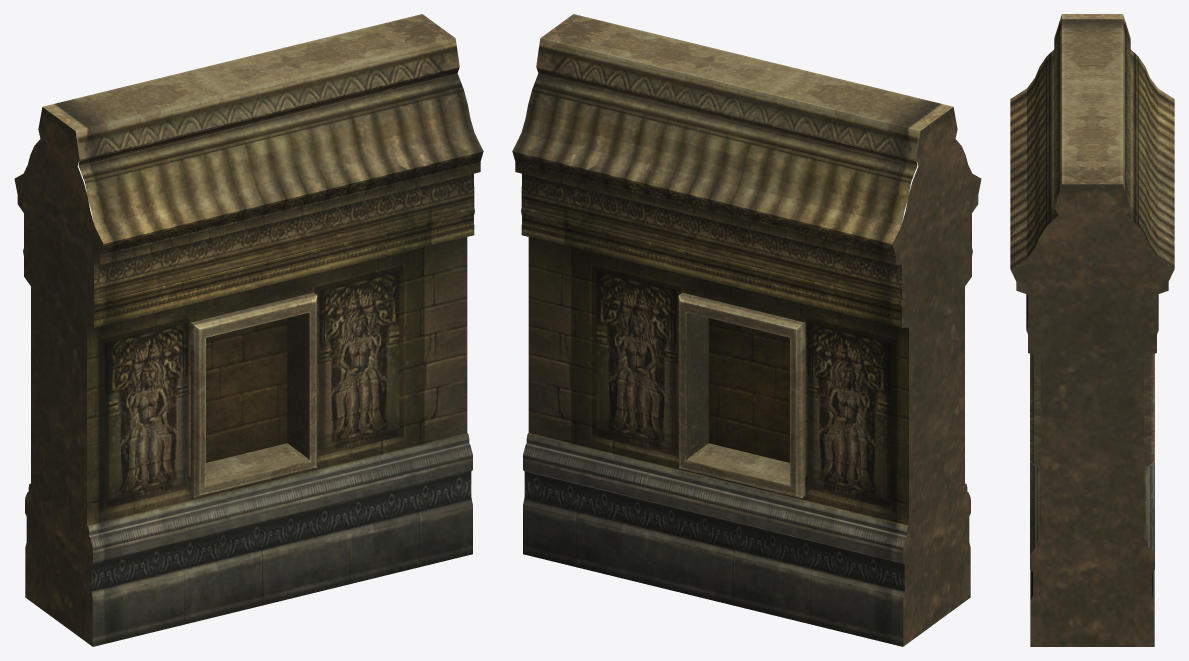
Rendered from thunder_ruins_wall02.glb.
The picture shows the model from 3 angles, left to right: view 1: azimuth 30°, elevation 25°; view 2: azimuth 150°, elevation 25°; view 3: azimuth 270°, elevation 25°; orthographic projection. The views are drawn at different scales.
Visible parts, largest first — view 1: Wall_2; view 2: Wall_2; view 3: Wall_2.
Part boxes in pixels (x1=…): Wall_2: x1=14, y1=14, x2=483, y2=646; Wall_2: x1=512, y1=14, x2=981, y2=646; Wall_2: x1=1010, y1=14, x2=1174, y2=646.
Bounding box in the file's own units: 20.2 × 25.55 × 8.21.
Materials: 1 (1 with a texture image).
